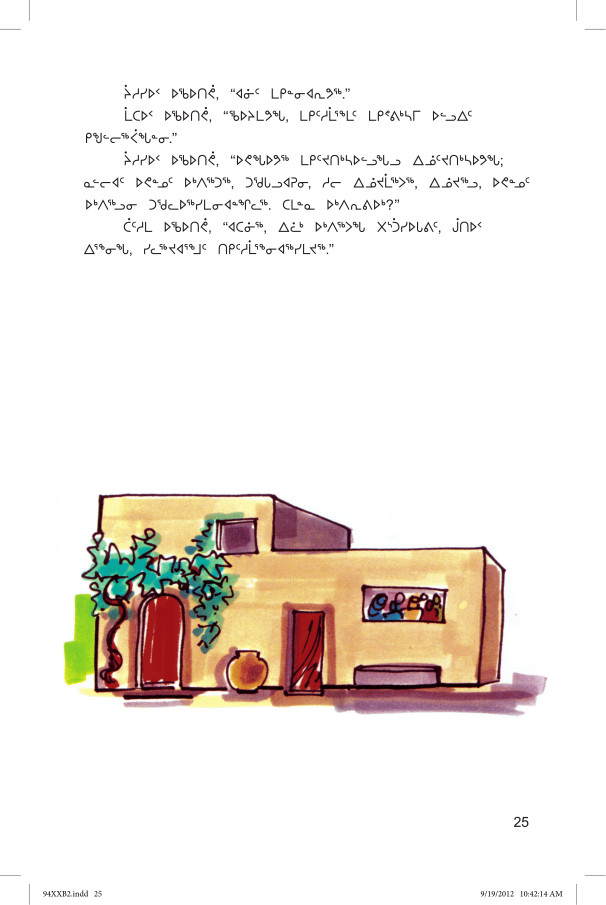inuktitut: (73, 76, 534, 267)
